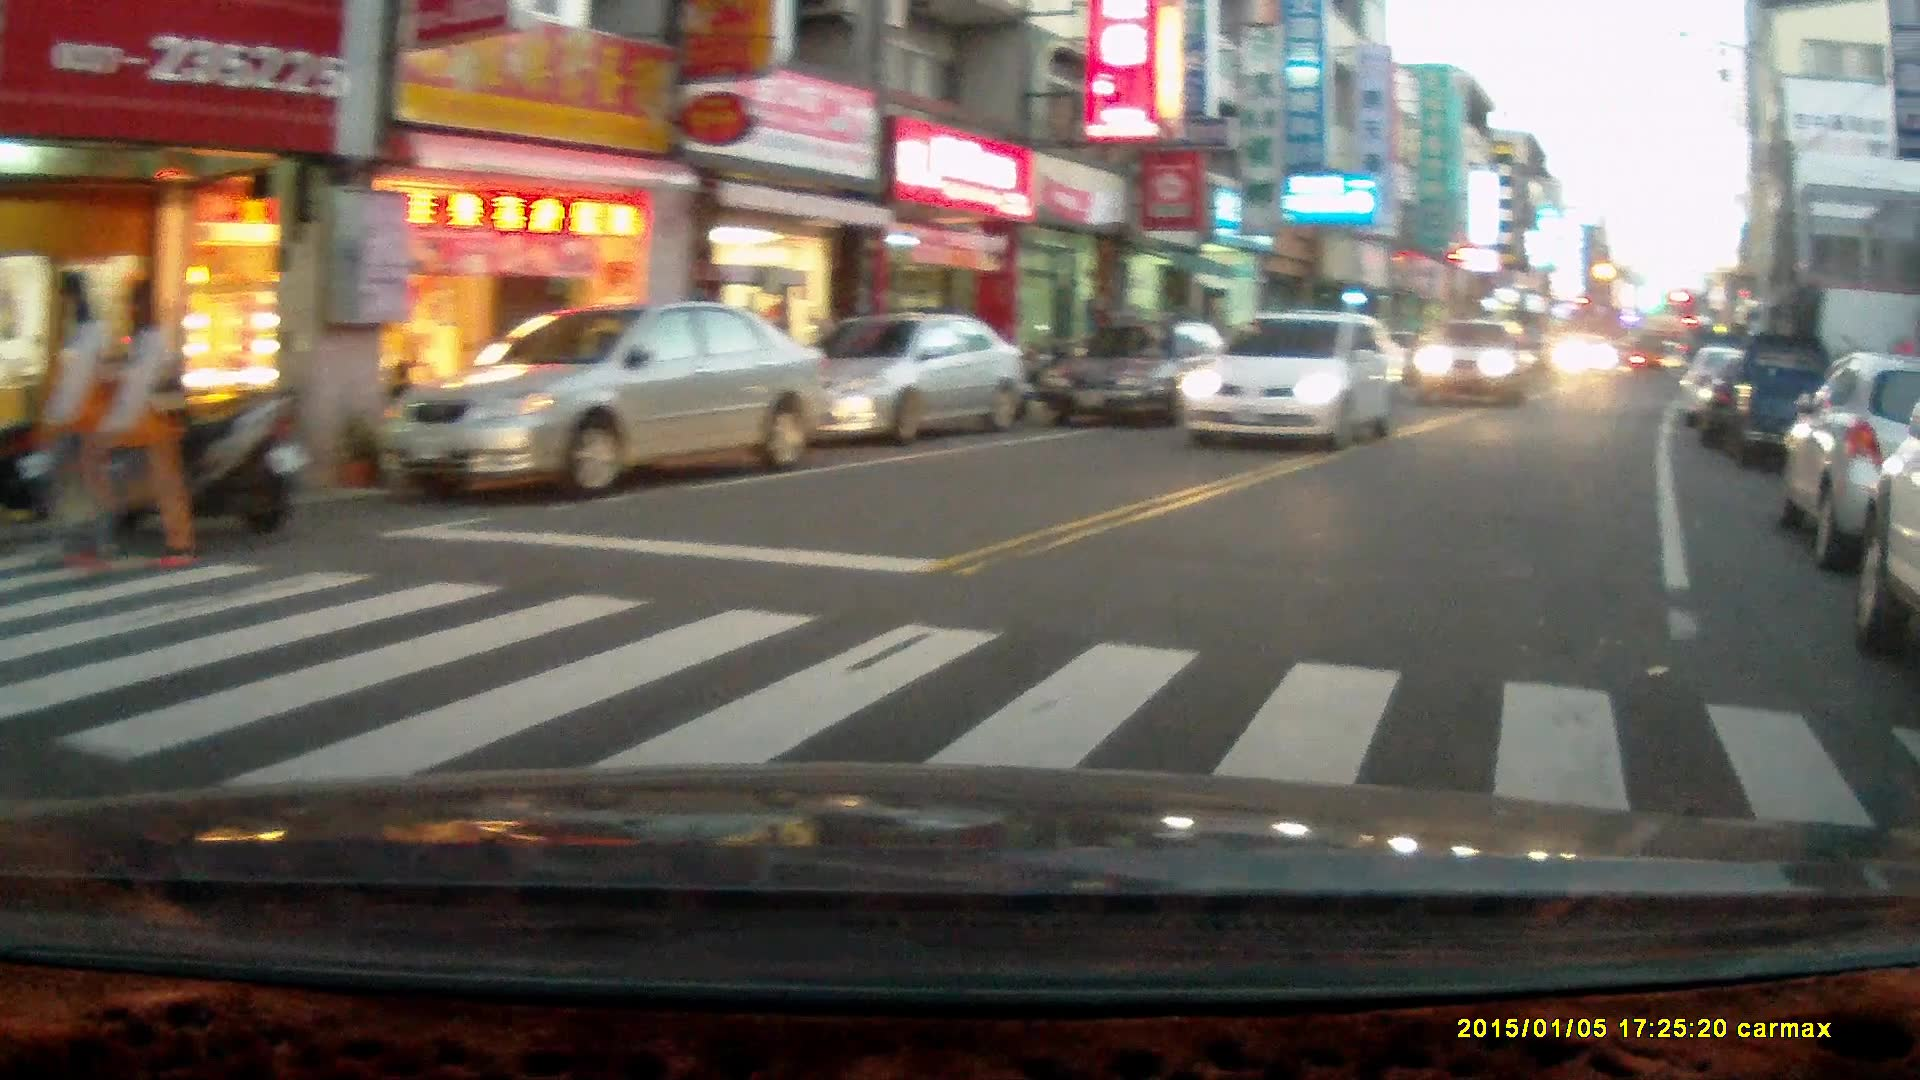pedestrian: (69, 277, 206, 579), (29, 271, 116, 570)
vehicle: (376, 296, 833, 501), (760, 311, 1027, 438), (1177, 305, 1407, 452), (1779, 340, 1920, 562), (1708, 329, 1862, 476), (1046, 320, 1242, 434), (1402, 316, 1538, 406), (1550, 329, 1614, 381)
